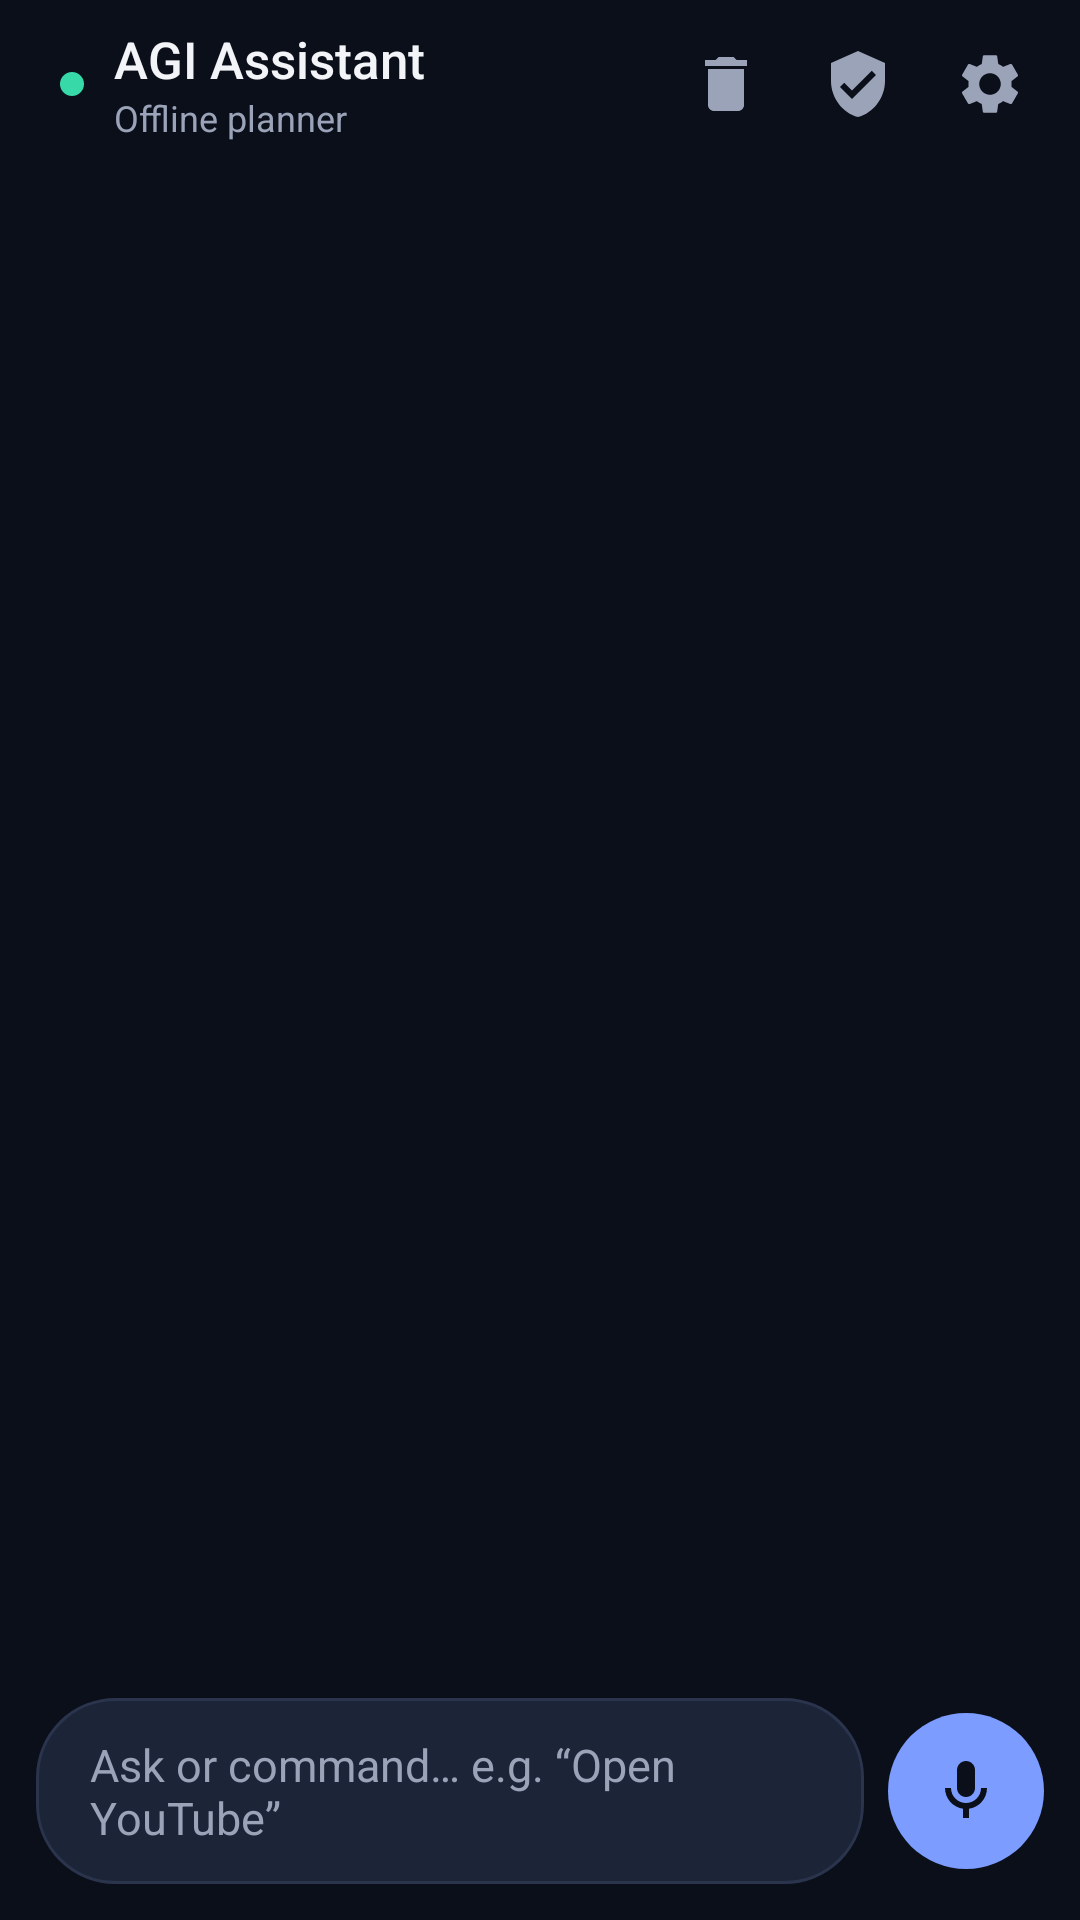

Locate icon controls on the screen. Image size 1080px×1920px, boxes as (x1, y1, x2, y2).
Clear conversation: (705, 57, 747, 111)
Permissions: (831, 51, 885, 117)
Settings: (962, 55, 1018, 113)
Voice input: (888, 1713, 1044, 1869)
